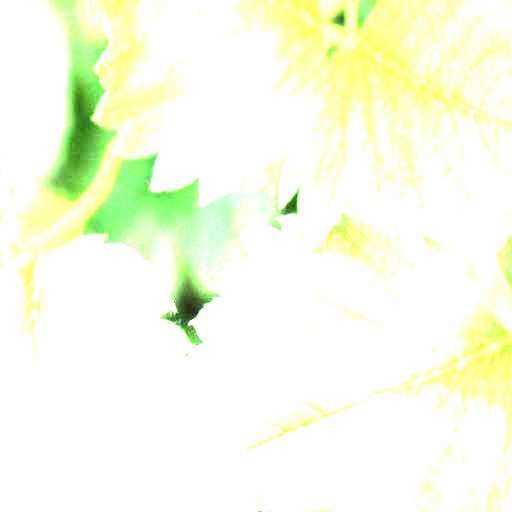Powdery Mildew Leaf: (185, 200, 511, 511), (268, 0, 511, 254)
